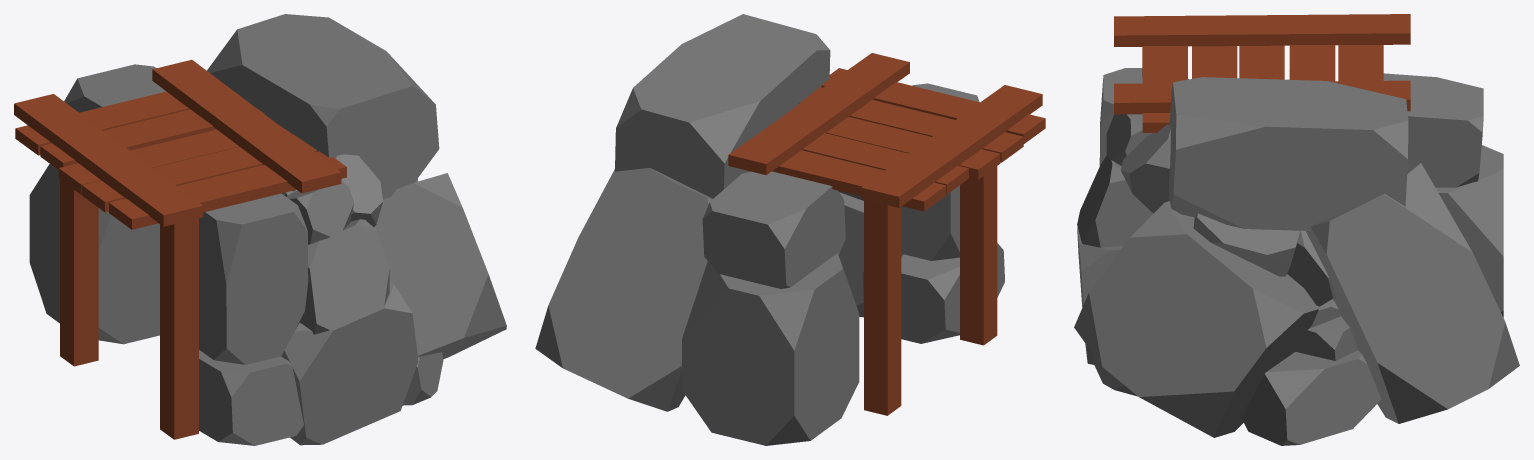
The model's file is Cave1.fbx.
3 views of the same model, side by side, from view 1: azimuth 30°, elevation 25°; view 2: azimuth 150°, elevation 25°; view 3: azimuth 270°, elevation 25° (orthographic). The views are drawn at different scales.
Visible parts, largest first — view 1: Cube.023, Cube.021, Cube.015, Cube.028, Cube.024, Cube.018, Cube.014, Cube.017, Cube.016, Cube.020, Cube.025, Cube.012 (+4 smaller); view 2: Cube.022, Cube.018, Cube.023, Cube.015, Cube.019, Cube.012, Cube.016, Cube.017, Cube.014, Cube.020, Cube.021, Cube.024; view 3: Cube.028, Cube.023, Cube.022, Cube.029, Cube.016, Cube.015, Cube.019, Cube.018, Cube.025, Cube.033, Cube.034, Cube.017 (+7 smaller).
Boxes of the visible parts, x1,y1,x2,y2 form: Cube.023: (207, 14, 439, 199); Cube.021: (199, 193, 308, 364); Cube.015: (15, 91, 346, 229); Cube.028: (374, 173, 506, 359); Cube.024: (281, 281, 418, 445); Cube.018: (29, 164, 159, 344); Cube.014: (160, 218, 198, 439); Cube.017: (152, 59, 341, 193); Cube.016: (14, 94, 203, 226); Cube.020: (199, 350, 303, 445); Cube.025: (300, 219, 389, 334); Cube.012: (60, 180, 98, 366); Cube.022: (535, 168, 712, 411); Cube.018: (682, 253, 859, 445); Cube.023: (615, 14, 830, 198); Cube.015: (772, 68, 1045, 211); Cube.019: (702, 171, 845, 288); Cube.012: (864, 199, 901, 415); Cube.016: (861, 85, 1042, 207); Cube.017: (728, 53, 909, 175); Cube.014: (960, 166, 997, 345); Cube.020: (862, 243, 1004, 343); Cube.021: (901, 83, 979, 260); Cube.024: (838, 192, 903, 317); Cube.028: (1074, 201, 1318, 437); Cube.023: (1169, 77, 1408, 230); Cube.022: (1306, 159, 1519, 423); Cube.029: (1241, 350, 1381, 445); Cube.016: (1114, 14, 1410, 46); Cube.015: (1142, 45, 1383, 132); Cube.019: (1383, 73, 1483, 187); Cube.018: (1435, 145, 1503, 317); Cube.025: (1077, 155, 1153, 247); Cube.033: (1193, 213, 1299, 276); Cube.034: (1120, 124, 1170, 213); Cube.017: (1114, 80, 1410, 114).
Bounding box in the file's own units: 234 × 179 × 229.
